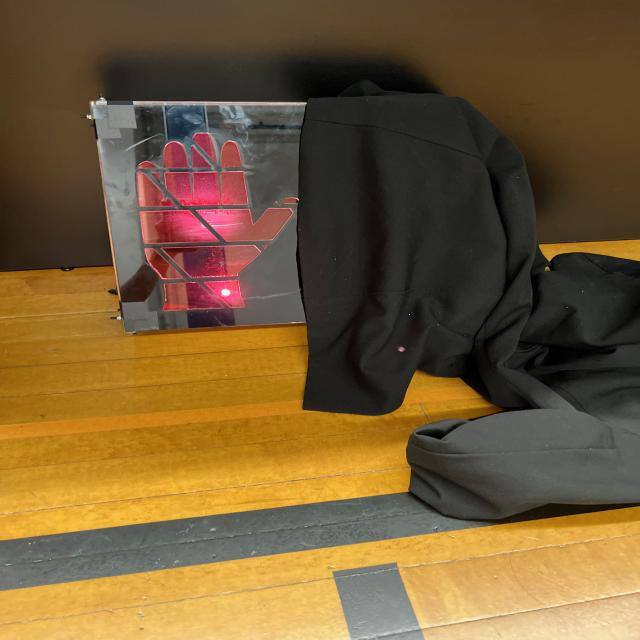stop: (96, 112, 314, 332)
